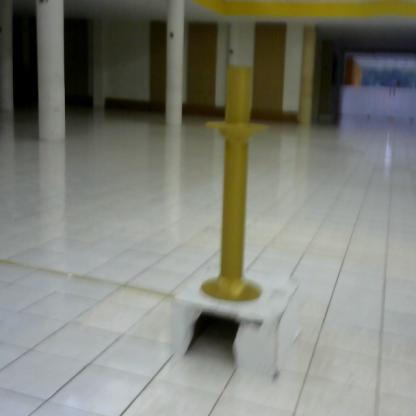pole: (194, 60, 269, 309)
